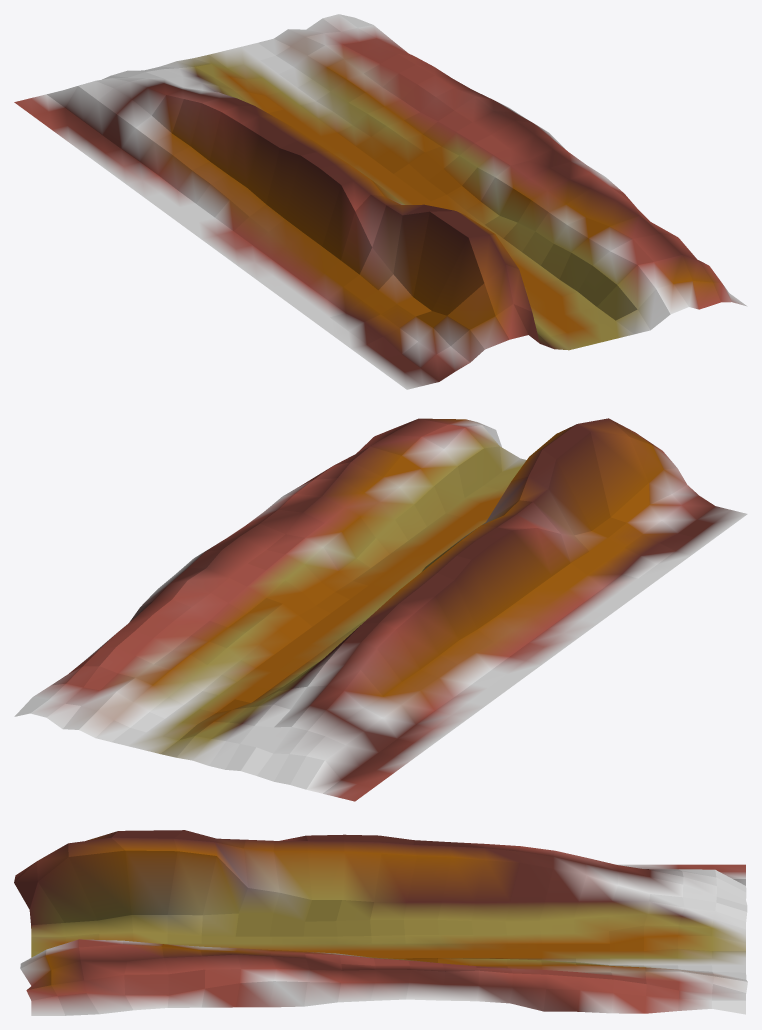
File: trenches.fbx
3 renders of one model, top to bottom at view 1: azimuth 30°, elevation 25°; view 2: azimuth 150°, elevation 25°; view 3: azimuth 270°, elevation 25°, orthographic. The views are drawn at different scales.
Visible parts, largest first — view 1: Plane; view 2: Plane; view 3: Plane.
Part boxes in pixels (x1,y1,x2,y2): Plane: (14, 14, 747, 389); Plane: (14, 418, 747, 801); Plane: (14, 830, 747, 1015).
Bounding box in the file's own units: 19075 × 4781 × 38286.
